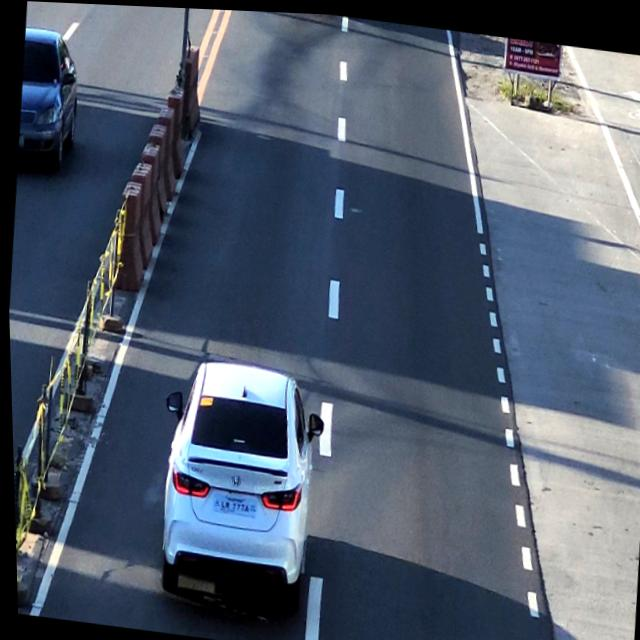Car: (149, 349, 318, 596)
License-Plate: (209, 491, 255, 520)
